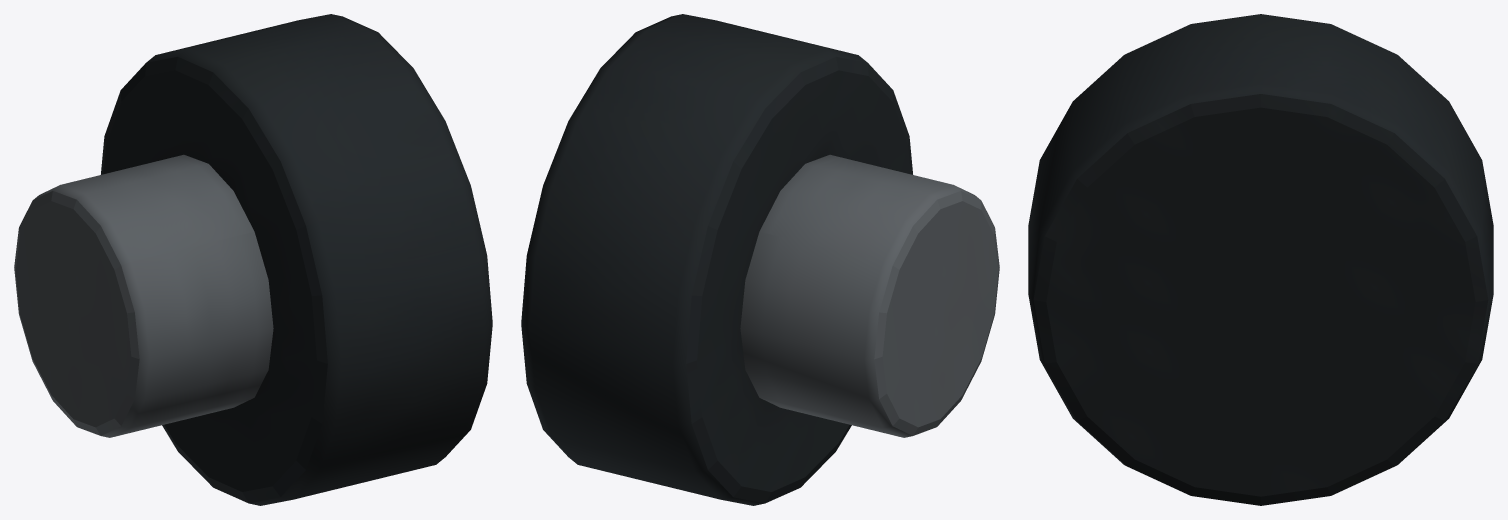
Rendered from 4_focusL.obj.
3 renders of one model, left to right at view 1: azimuth 30°, elevation 25°; view 2: azimuth 150°, elevation 25°; view 3: azimuth 270°, elevation 25°, orthographic.
Size of the model in its own units: 0.16 by 0.21 by 0.21.
Materials: 1 (1 with a texture image).
